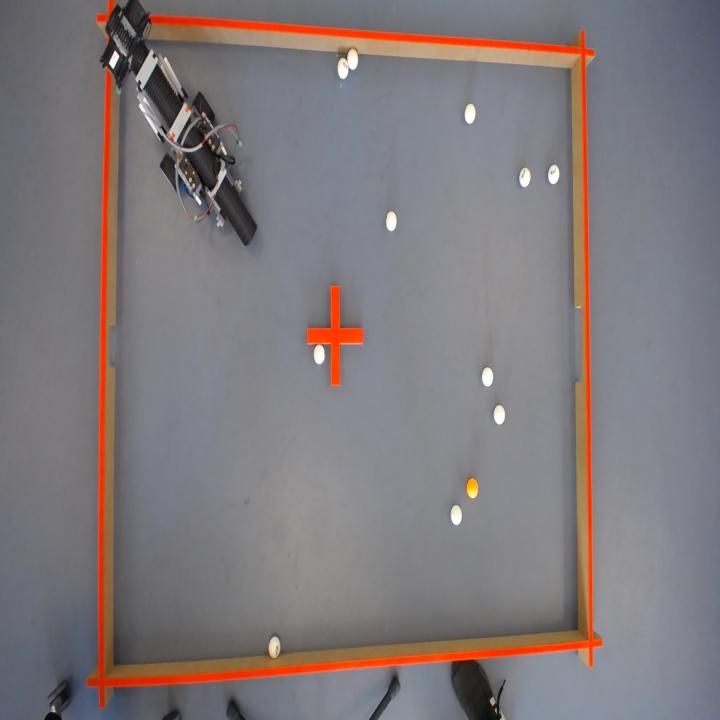orange: (467, 477, 479, 498)
robot: (100, 0, 256, 244)
white: (268, 635, 281, 659), (338, 55, 350, 78), (520, 165, 532, 186), (549, 163, 561, 184), (347, 46, 358, 68), (494, 404, 506, 424), (314, 343, 325, 364), (482, 367, 494, 386), (386, 210, 397, 230), (465, 102, 476, 122), (451, 505, 462, 525)
